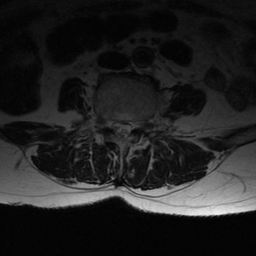CCS_normal: (117, 111, 126, 148)
LFS_normal: (134, 110, 143, 138)
LLS_normal: (126, 110, 134, 144)
RFS_normal: (102, 105, 110, 139)
RLS_normal: (110, 110, 117, 142)
